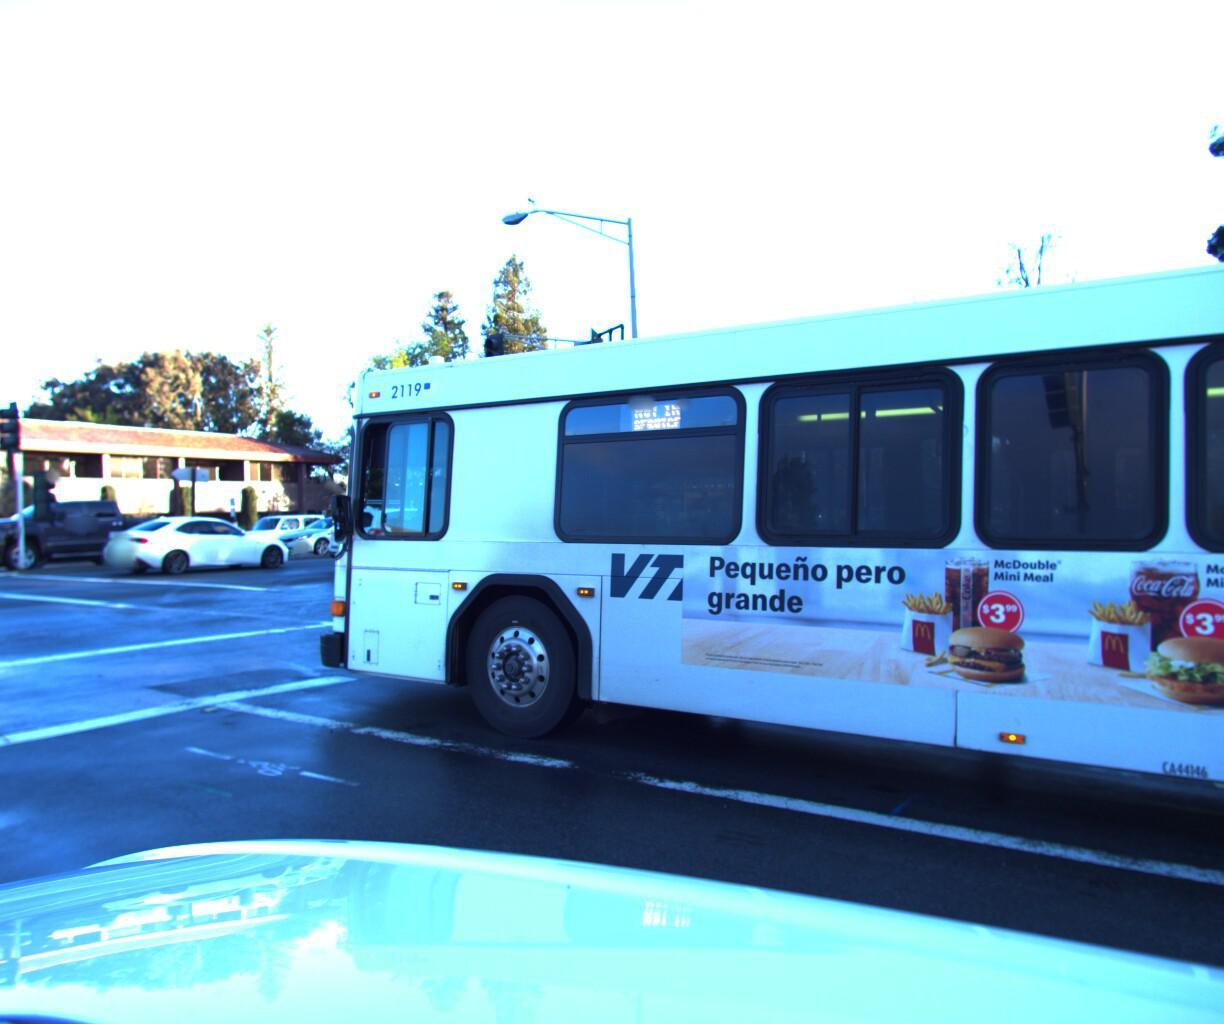bus: (259, 0, 1224, 1024)
car: (0, 494, 200, 575), (319, 500, 489, 579), (97, 511, 296, 577), (262, 508, 397, 559), (218, 510, 342, 556)
